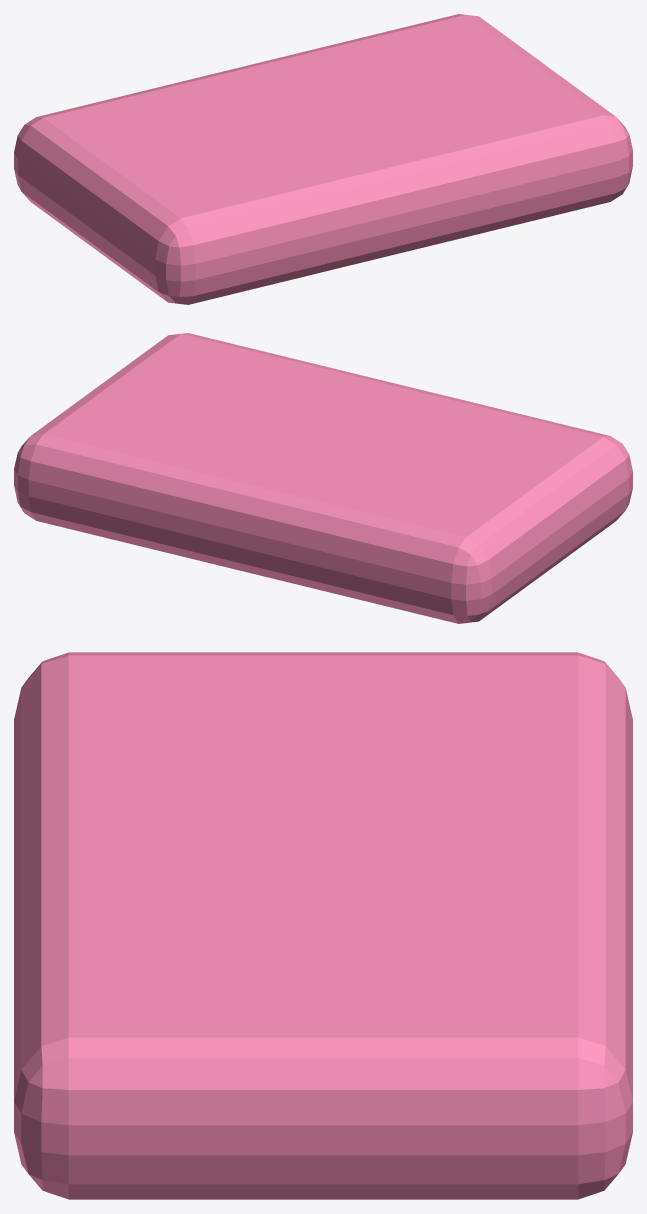
Rendered from Pillow_10.fbx.
The picture shows the model from 3 angles, top to bottom: view 1: azimuth 30°, elevation 25°; view 2: azimuth 150°, elevation 25°; view 3: azimuth 270°, elevation 25°; orthographic projection. The views are drawn at different scales.
Parts seen in each view (by area): view 1: Pillow_10; view 2: Pillow_10; view 3: Pillow_10.
Part boxes in pixels (x1,y1,x2,y2): Pillow_10: (14, 14, 632, 304); Pillow_10: (14, 333, 632, 623); Pillow_10: (14, 652, 632, 1199).
Size of the model in its own units: 0.5158 by 0.0893 by 0.3149.
